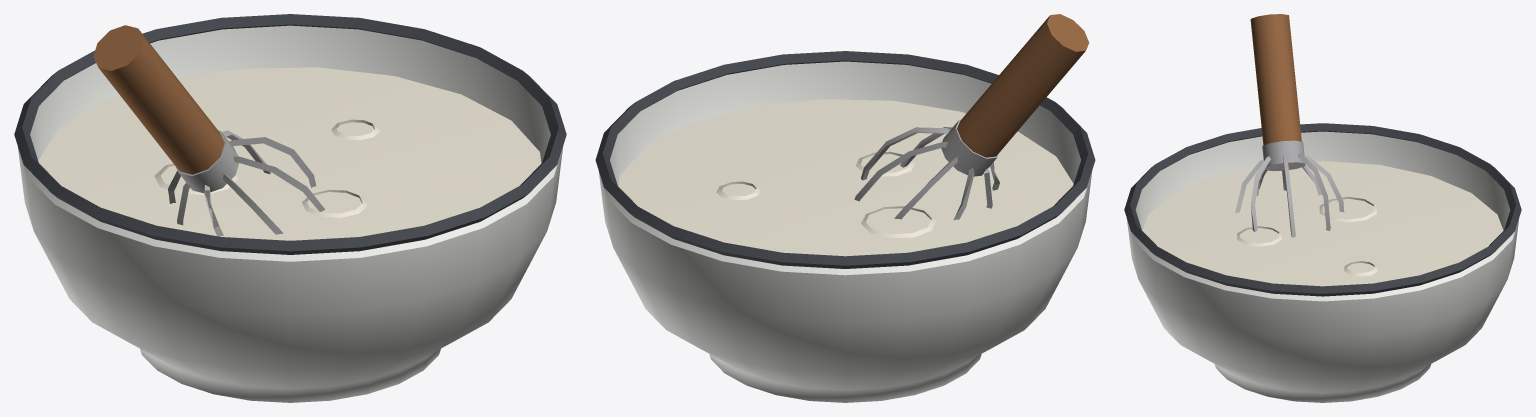
File: cook_batter.glb
3 views of the same model, side by side, from view 1: azimuth 30°, elevation 25°; view 2: azimuth 150°, elevation 25°; view 3: azimuth 270°, elevation 25° (orthographic). The views are drawn at different scales.
Visible parts, largest first — view 1: body; view 2: body; view 3: body.
Part boxes in pixels (bbox=[...]): body: bbox=[14, 14, 566, 402]; body: bbox=[595, 14, 1095, 402]; body: bbox=[1124, 14, 1521, 402].
Size of the model in its own units: 0.0628 by 0.048 by 0.0628.
